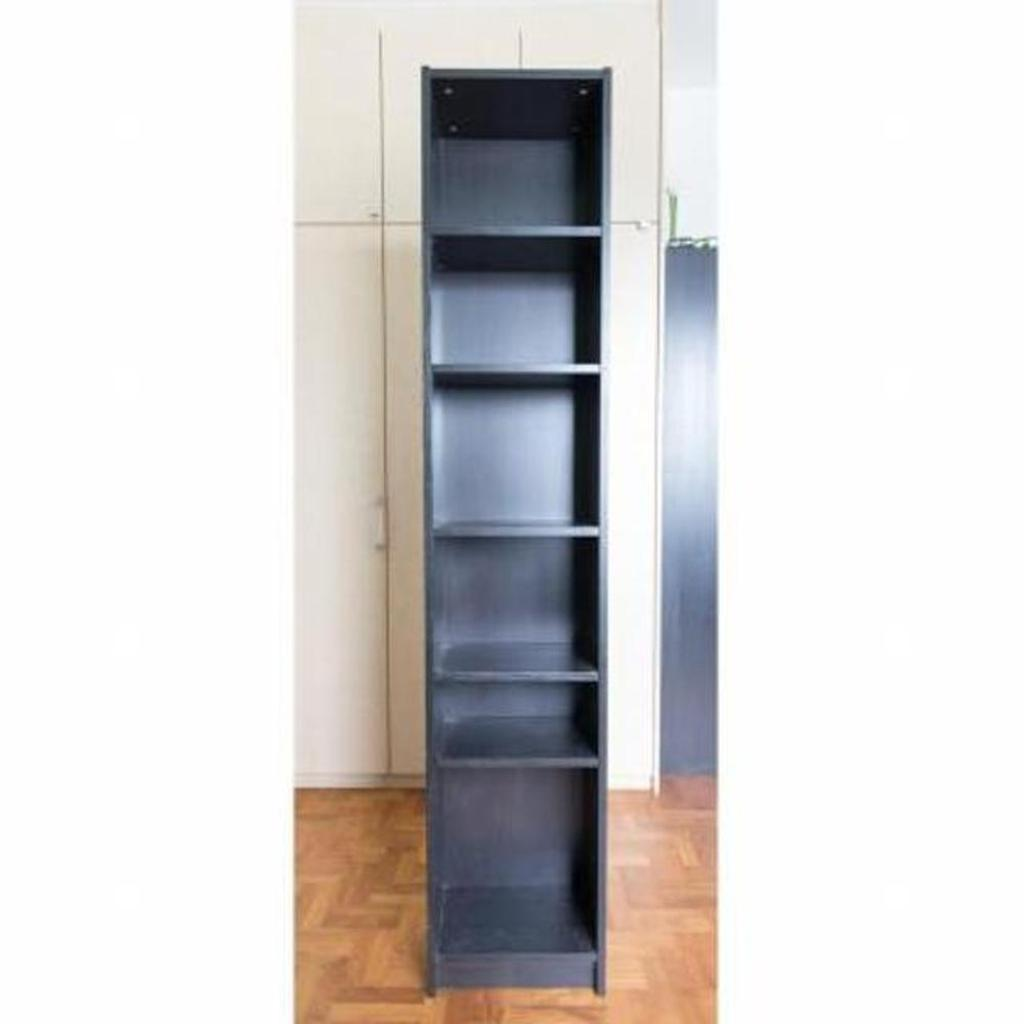lamp: (416, 63, 618, 1001)
